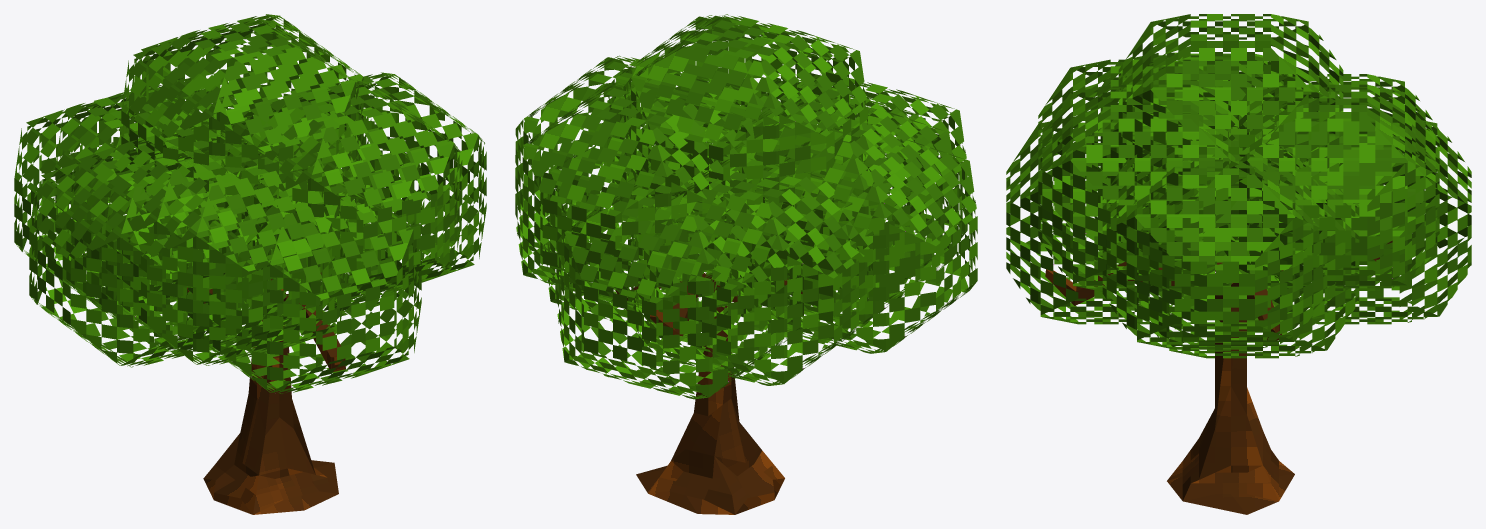
The model's file is low_ploy_tree.glb.
3 renders of one model, left to right at view 1: azimuth 30°, elevation 25°; view 2: azimuth 150°, elevation 25°; view 3: azimuth 270°, elevation 25°, orthographic. The views are drawn at different scales.
Visible parts, largest first — view 1: cube_0; view 2: cube_0; view 3: cube_0.
Boxes of the visible parts, x1=… form: cube_0: x1=14, y1=14, x2=486, y2=514; cube_0: x1=515, y1=14, x2=977, y2=514; cube_0: x1=1006, y1=14, x2=1471, y2=514.
Size of the model in its own units: 1.81 by 1.88 by 1.81.
Materials: 3 (3 with a texture image).
